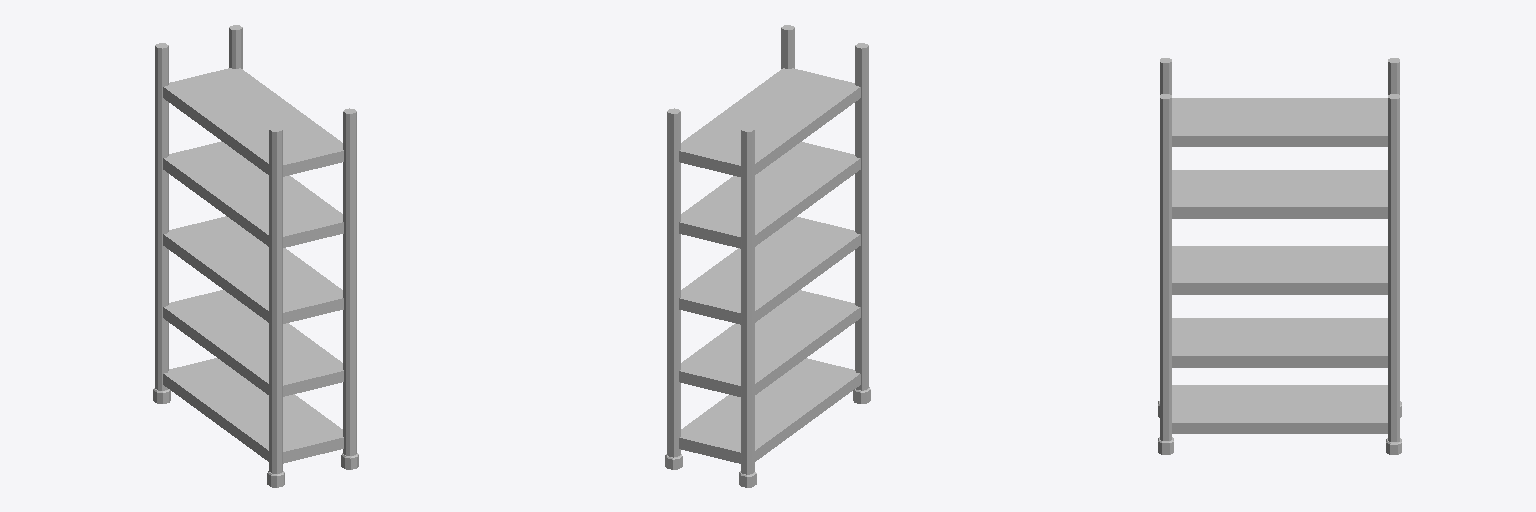
File: Storage Shelf.obj
3 views of the same model, side by side, from view 1: azimuth 30°, elevation 25°; view 2: azimuth 150°, elevation 25°; view 3: azimuth 270°, elevation 25° (orthographic).
Visible parts, largest first — view 1: initialShadingGroup pCube10; view 2: initialShadingGroup pCube10; view 3: initialShadingGroup pCube10.
Part boxes in pixels (left/top/right/bottom): initialShadingGroup pCube10: left=153, top=25, right=358, bottom=487; initialShadingGroup pCube10: left=665, top=25, right=870, bottom=487; initialShadingGroup pCube10: left=1158, top=58, right=1401, bottom=454.
Size of the model in its own units: 4.92 by 19.04 by 11.88.